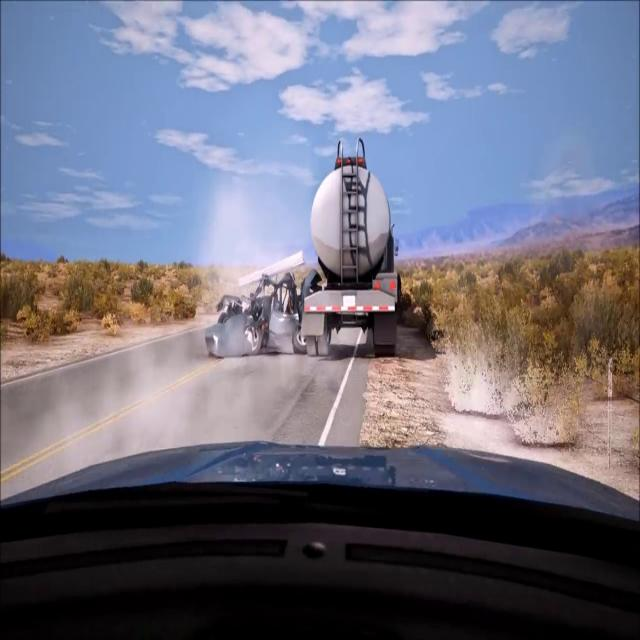accident: (204, 132, 400, 370)
